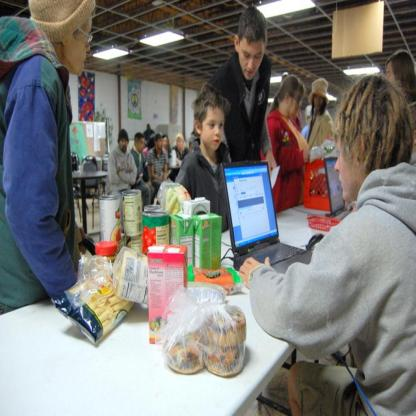board: (218, 160, 312, 277), (148, 244, 187, 346), (192, 212, 222, 270), (325, 156, 351, 218), (170, 212, 194, 270), (99, 195, 123, 251), (122, 188, 143, 249), (142, 212, 170, 254), (184, 196, 209, 214)
